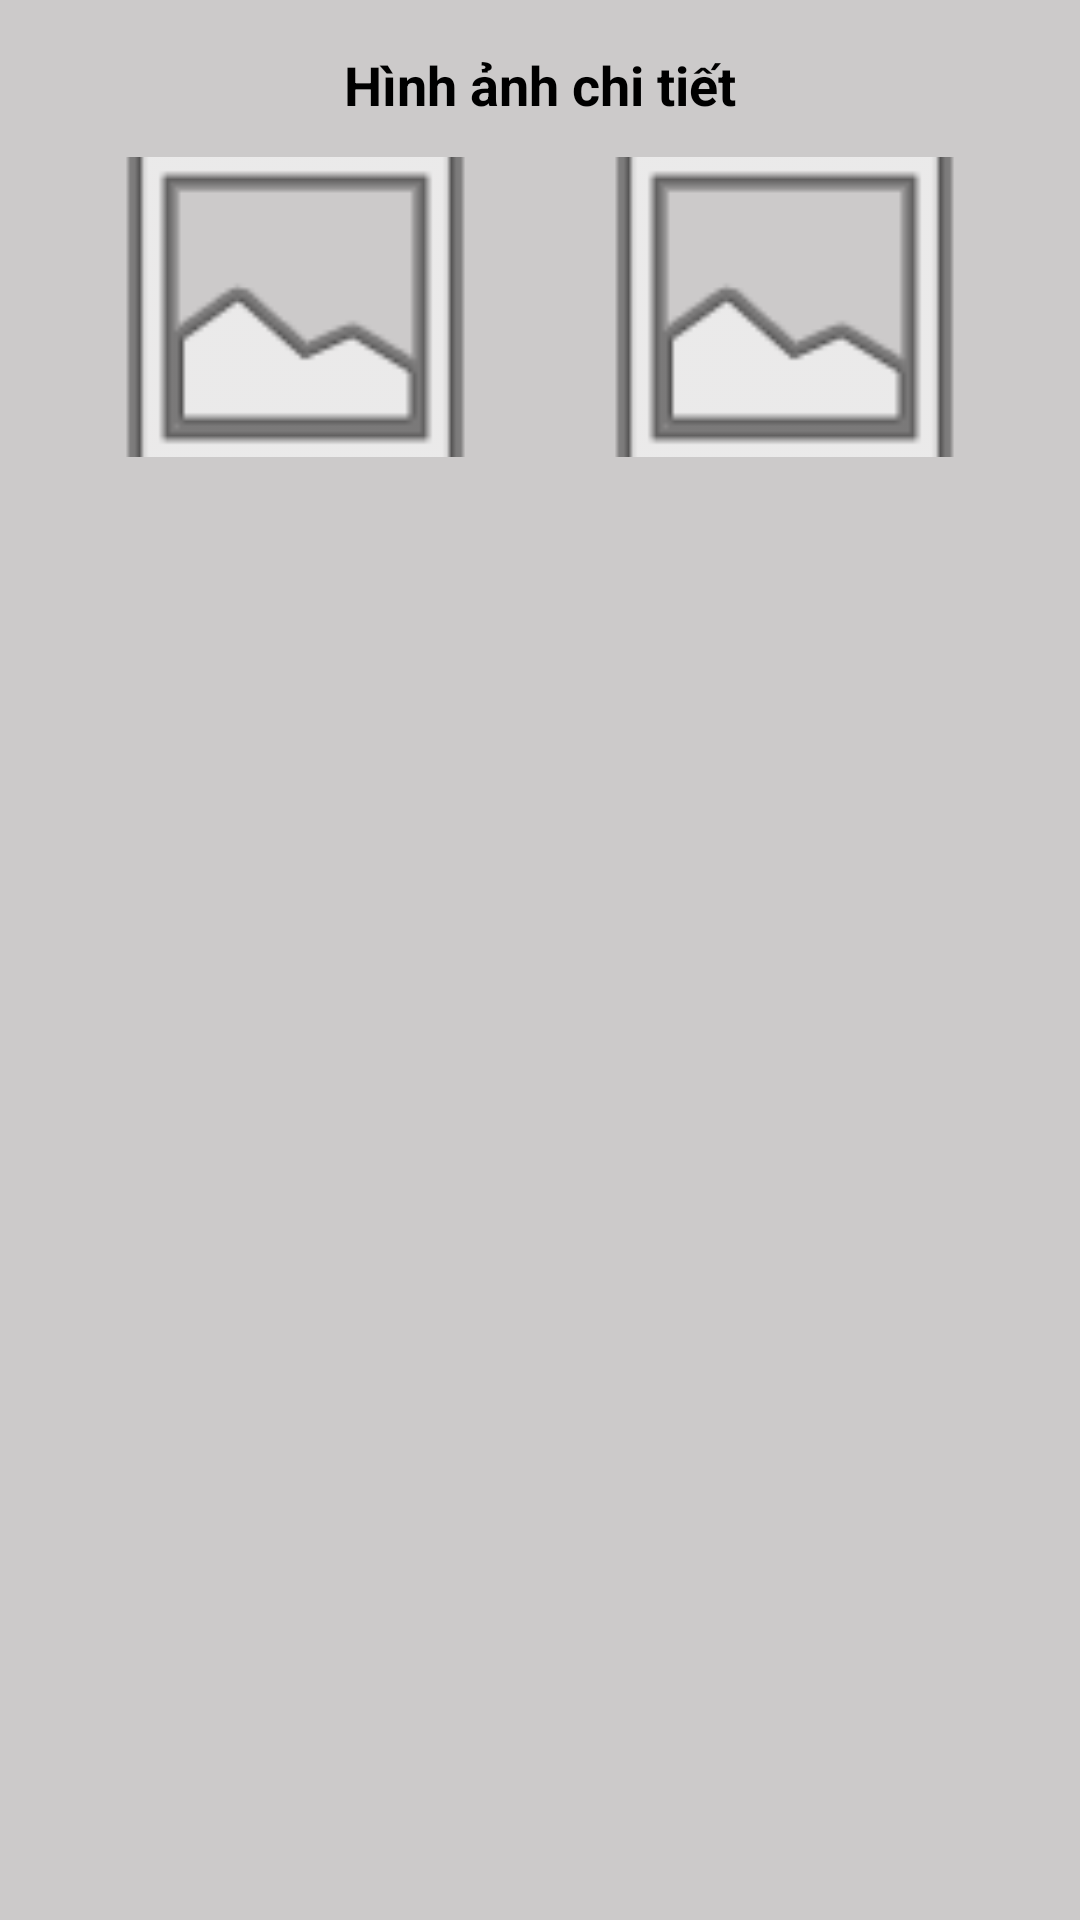

Where to tap for icons on this 1080w x 1920h app screen, as (x=x, y=y):
gallery: (x=295, y=307), (x=784, y=307)
